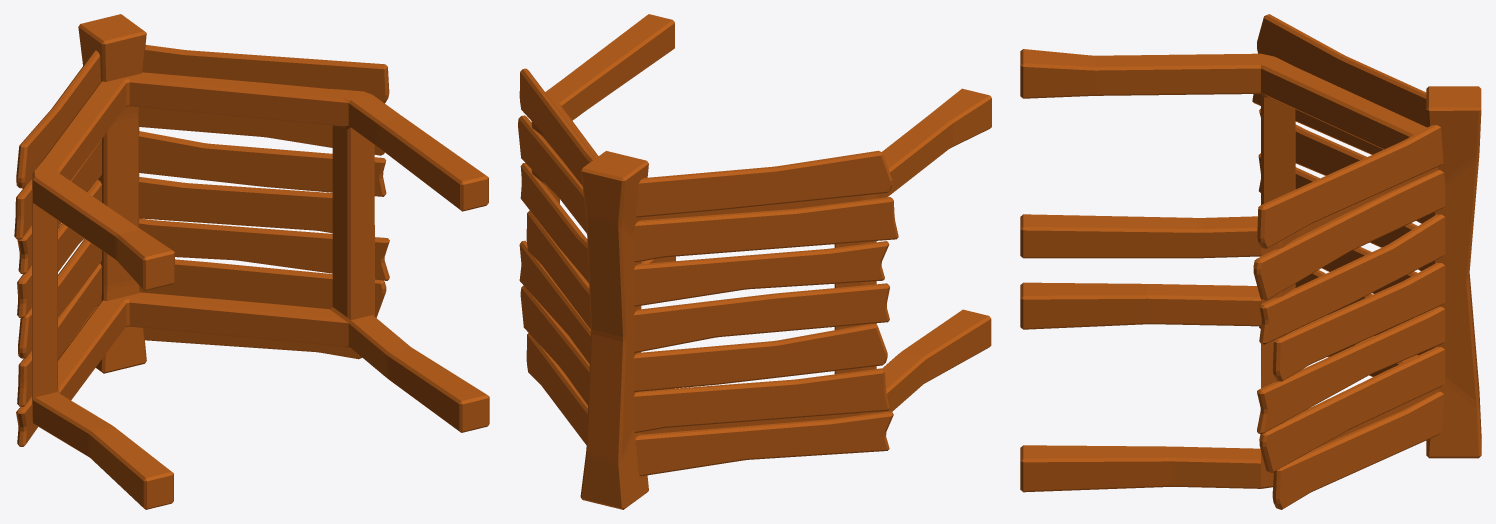
Rendered from Structure.fbx.
3 renders of one model, left to right at view 1: azimuth 30°, elevation 25°; view 2: azimuth 150°, elevation 25°; view 3: azimuth 270°, elevation 25°, orthographic. The views are drawn at different scales.
Visible parts, largest first — view 1: structure; view 2: structure; view 3: structure.
Part boxes in pixels (x1,y1,x2,y2): structure: (14, 14, 489, 509); structure: (518, 14, 991, 509); structure: (1020, 14, 1481, 509).
Size of the model in its own units: 721 by 604 by 719.
